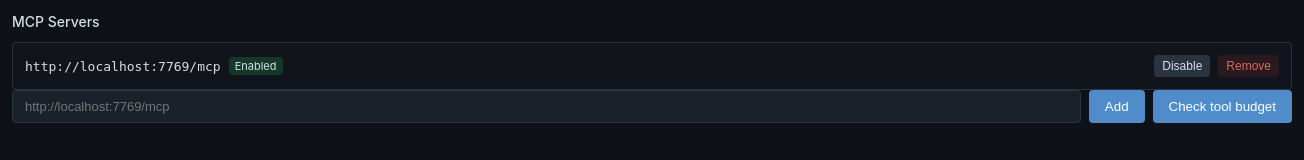
Test: McpTab › marks a server whose MCP discovery failed instead of giving a false all-clear
Click the button "Check tool budget".
click(1222, 106)  # box [1152, 90, 1292, 123]
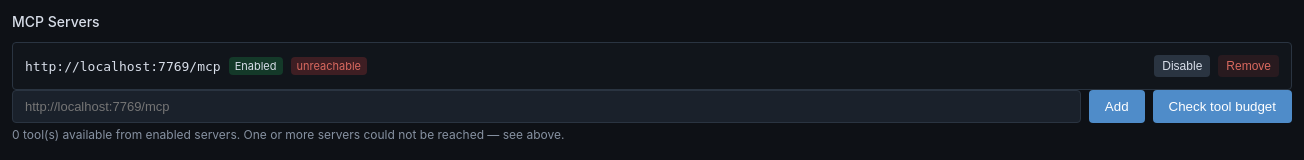
Check: the text "unreachable" is shown, box [290, 57, 367, 75]
